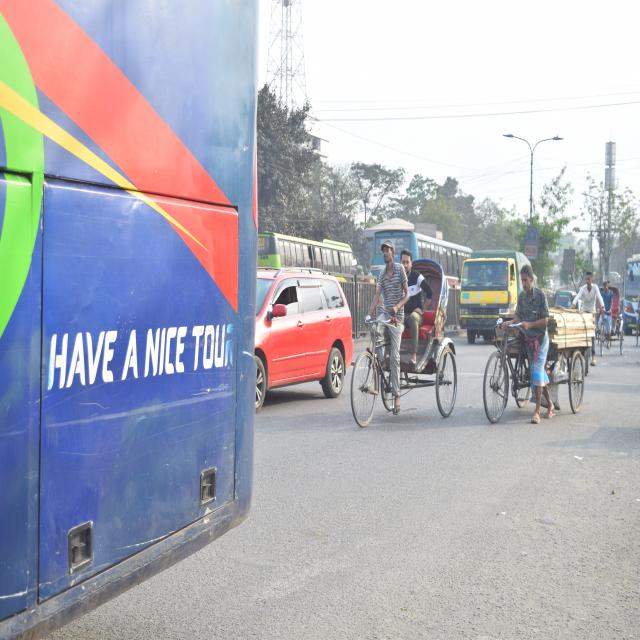bus: (0, 1, 255, 574), (622, 250, 640, 332)
car: (257, 260, 351, 410)
pickup-van: (459, 245, 526, 344)
